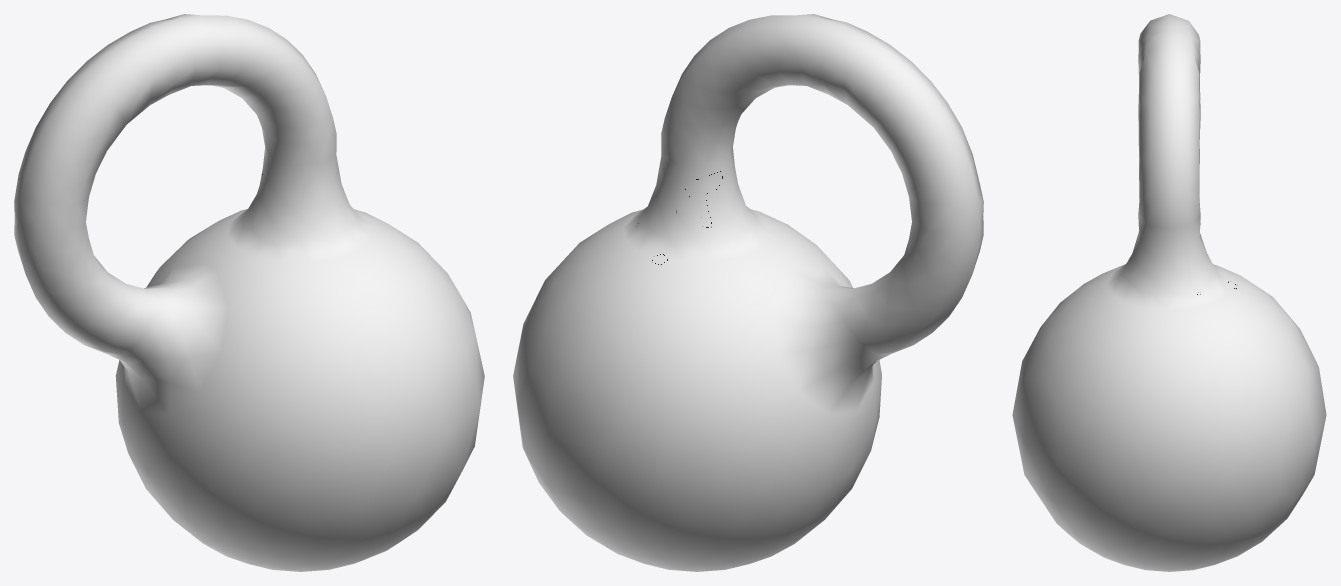
The model's file is klein_bottle_occ_cgal_authalic_result.glb.
3 renders of one model, left to right at view 1: azimuth 30°, elevation 25°; view 2: azimuth 150°, elevation 25°; view 3: azimuth 270°, elevation 25°, orthographic. The views are drawn at different scales.
Size of the model in its own units: 139 by 164 by 100.
1 material, 1 textured.
